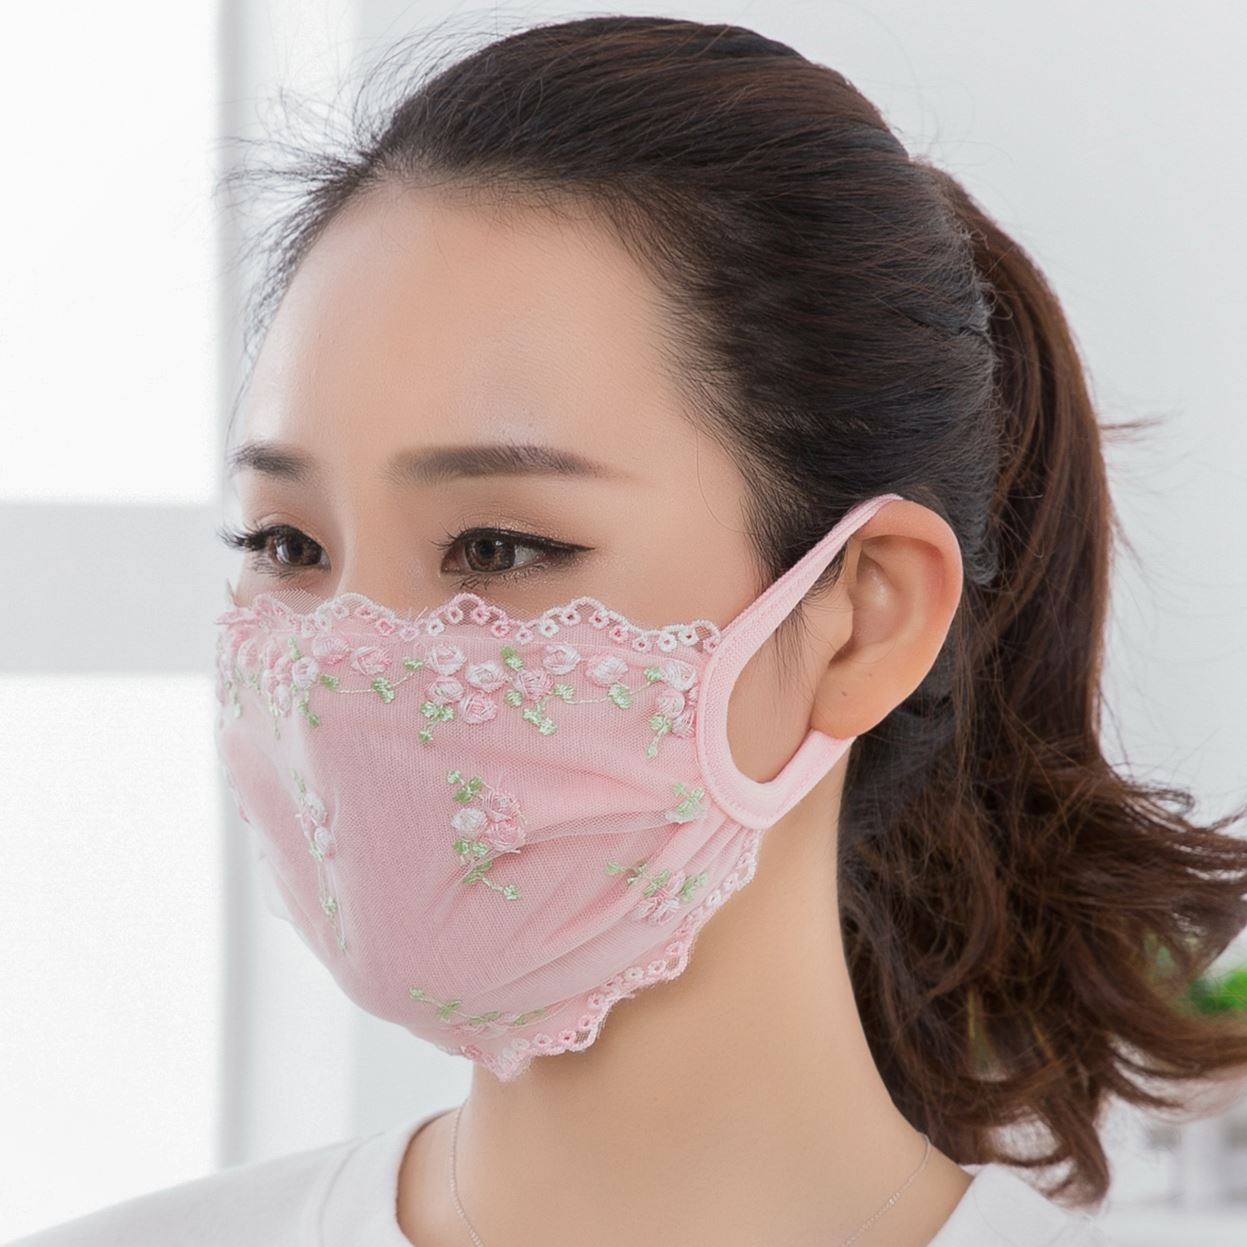face_mask: (221, 205, 767, 1001)
